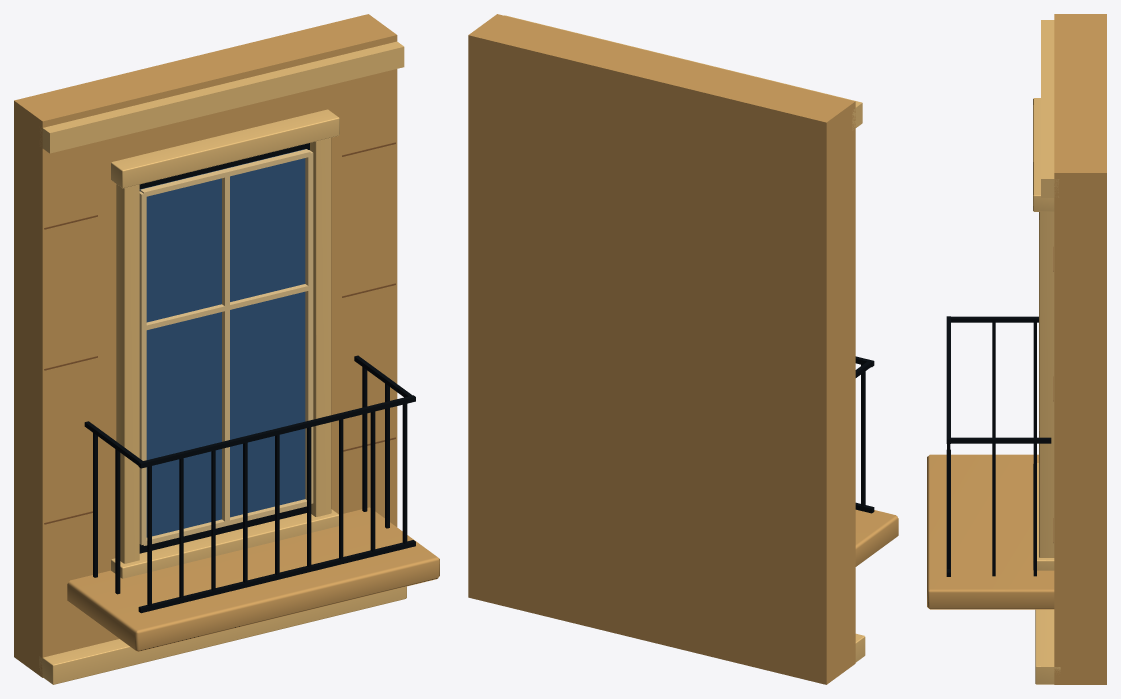
File: etage-balcon-2m.glb
3 renders of one model, left to right at view 1: azimuth 30°, elevation 25°; view 2: azimuth 150°, elevation 25°; view 3: azimuth 270°, elevation 25°, orthographic. The views are drawn at different scales.
Parts seen in each view (by area): view 1: etage-balcon-2m; view 2: etage-balcon-2m; view 3: etage-balcon-2m.
Boxes of the visible parts, <box> form: etage-balcon-2m: <box>14,14,439,684</box>; etage-balcon-2m: <box>468,14,898,684</box>; etage-balcon-2m: <box>927,14,1106,684</box>.
Bounding box in the file's own units: 2 × 3 × 0.955.
1 material, 1 textured.
